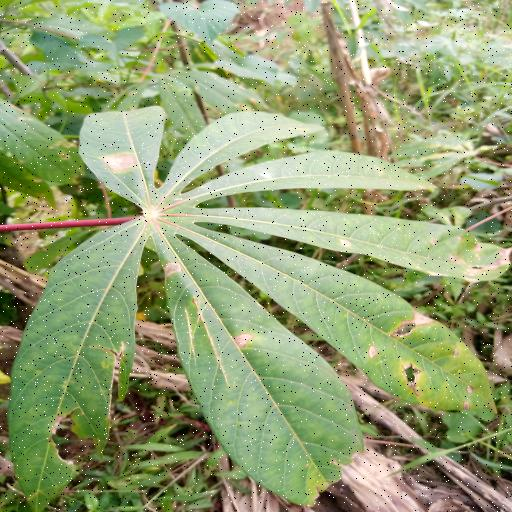Cassava_Brown_Leaf_Spot: (5, 99, 510, 503)
